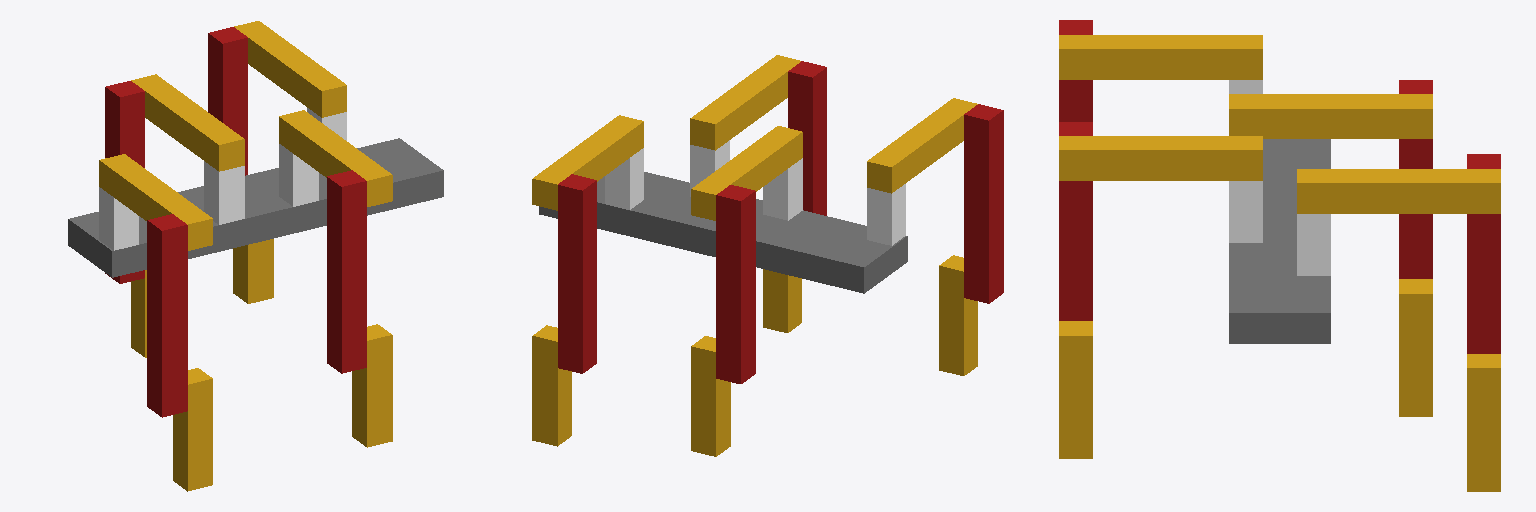
robot.urdf — v0:
<?xml version="1.0" encoding="utf-8"?>
<!-- =================================================================================== -->
<!-- |    This document was autogenerated by xacro from ../robots/v0variants/xacros/v0_4l_8.xacro | -->
<!-- |    EDITING THIS FILE BY HAND IS NOT RECOMMENDED                                 | -->
<!-- =================================================================================== -->
<robot name="v0">
  <material name="grey">
    <color rgba="0.5 0.5 0.5 1"/>
  </material>
  <material name="white">
    <color rgba="1 1 1 1"/>
  </material>
  <material name="yellow">
    <color rgba="0.91 0.7 0.14 1"/>
  </material>
  <material name="red">
    <color rgba="0.71 0.14 0.14 1"/>
  </material>
  <link name="body">
    <visual>
      <geometry>
        <box size="1.3 0.3 0.1"/>
      </geometry>
      <material name="grey"/>
      <origin rpy="0 0 0" xyz="0 0 0.7"/>
    </visual>
    <collision>
      <geometry>
        <box size="1.3 0.3 0.1"/>
      </geometry>
      <origin rpy="0 0 0" xyz="0 0 0.7"/>
    </collision>
    <inertial>
      <mass value="99.84"/>
      <inertia ixx="0.832" ixy="0.0" ixz="0.0" iyy="14.144" iyz="0.0" izz="14.8096"/>
    </inertial>
  </link>
  <link name="l1_segment_1">
    <visual>
      <geometry>
        <box size="0.1 0.1 0.2"/>
      </geometry>
      <material name="white"/>
      <origin rpy="0 0 0" xyz="0 0 0.1"/>
    </visual>
    <collision>
      <geometry>
        <box size="0.1 0.1 0.2"/>
      </geometry>
      <origin rpy="0 0 0" xyz="0 0 0.1"/>
    </collision>
    <inertial>
      <mass value="5.12"/>
      <inertia ixx="0.0213333333333" ixy="0.0" ixz="0.0" iyy="0.0213333333333" iyz="0.0" izz="0.00853333333333"/>
    </inertial>
  </link>
  <joint name="l1_base_to_joint_1" type="fixed">
    <parent link="body"/>
    <child link="l1_segment_1"/>
    <origin rpy="0 0 0" xyz="-0.18138383729886587 -0.1 0.75"/>
  </joint>
  <link name="l1_segment_2_HIP">
    <visual>
      <geometry>
        <box size="0.1 0.6 0.1"/>
      </geometry>
      <material name="yellow"/>
      <origin rpy="0 0 0" xyz="0 0.25 0"/>
    </visual>
    <collision>
      <geometry>
        <box size="0.1 0.6 0.1"/>
      </geometry>
      <origin rpy="0 0 0" xyz="0 0.25 0"/>
    </collision>
    <inertial>
      <mass value="15.36"/>
      <inertia ixx="0.4736" ixy="0.0" ixz="0.0" iyy="0.0256" iyz="0.0" izz="0.4736"/>
    </inertial>
  </link>
  <joint name="l1_joint_1_to_2" type="revolute">
    <parent link="l1_segment_1"/>
    <child link="l1_segment_2_HIP"/>
    <origin rpy="0 0 0" xyz="0 0 0.25"/>
    <axis xyz="0.0 0.0 1.0"/>
    <limit effort="2048" lower="-1.2" upper="1.2" velocity="20"/>
  </joint>
  <link name="l1_segment_3_THIGH">
    <visual>
      <geometry>
        <box size="0.1 0.1 0.7"/>
      </geometry>
      <material name="red"/>
      <origin rpy="0 0 0" xyz="0 0 -0.3"/>
    </visual>
    <collision>
      <geometry>
        <box size="0.1 0.1 0.7"/>
      </geometry>
      <origin rpy="0 0 0" xyz="0 0 -0.3"/>
    </collision>
    <inertial>
      <mass value="17.92"/>
      <inertia ixx="0.746666666667" ixy="0.0" ixz="0.0" iyy="0.746666666667" iyz="0.0" izz="0.0298666666667"/>
    </inertial>
  </link>
  <joint name="l1_joint_2_to_3" type="revolute">
    <parent link="l1_segment_2_HIP"/>
    <child link="l1_segment_3_THIGH"/>
    <origin rpy="0 0 0" xyz="-0.1 0.5 0"/>
    <axis xyz="1.0 0.0 0.0"/>
    <limit effort="2048" lower="-0.2" upper="0.75" velocity="20"/>
  </joint>
  <link name="l1_segment_4_FOOT">
    <visual>
      <geometry>
        <box size="0.1 0.1 0.4"/>
      </geometry>
      <material name="yellow"/>
      <origin rpy="0 0 0" xyz="0 0 -0.2"/>
    </visual>
    <collision>
      <geometry>
        <box size="0.1 0.1 0.4"/>
      </geometry>
      <origin rpy="0 0 0" xyz="0 0 -0.2"/>
    </collision>
    <inertial>
      <mass value="10.24"/>
      <inertia ixx="0.145066666667" ixy="0.0" ixz="0.0" iyy="0.145066666667" iyz="0.0" izz="0.0170666666667"/>
    </inertial>
  </link>
  <joint name="l1_joint_3_to_4_FOOT" type="revolute">
    <parent link="l1_segment_3_THIGH"/>
    <child link="l1_segment_4_FOOT"/>
    <origin rpy="0 0 0" xyz="0.1 0 -0.55"/>
    <axis xyz="1.0 0.0 0.0"/>
    <limit effort="2048" lower="-0.2" upper="0.5" velocity="20"/>
  </joint>
  <link name="r2_segment_1">
    <visual>
      <geometry>
        <box size="0.1 0.1 0.2"/>
      </geometry>
      <material name="white"/>
      <origin rpy="0 0 0" xyz="0 0 0.1"/>
    </visual>
    <collision>
      <geometry>
        <box size="0.1 0.1 0.2"/>
      </geometry>
      <origin rpy="0 0 0" xyz="0 0 0.1"/>
    </collision>
    <inertial>
      <mass value="5.12"/>
      <inertia ixx="0.0213333333333" ixy="0.0" ixz="0.0" iyy="0.0213333333333" iyz="0.0" izz="0.00853333333333"/>
    </inertial>
  </link>
  <joint name="r2_base_to_joint_1" type="fixed">
    <parent link="body"/>
    <child link="r2_segment_1"/>
    <origin rpy="0 0 0" xyz="-0.5939386239740044 -0.1 0.75"/>
  </joint>
  <link name="r2_segment_2_HIP">
    <visual>
      <geometry>
        <box size="0.1 0.6 0.1"/>
      </geometry>
      <material name="yellow"/>
      <origin rpy="0 0 0" xyz="0 -0.25 0"/>
    </visual>
    <collision>
      <geometry>
        <box size="0.1 0.6 0.1"/>
      </geometry>
      <origin rpy="0 0 0" xyz="0 -0.25 0"/>
    </collision>
    <inertial>
      <mass value="15.36"/>
      <inertia ixx="0.4736" ixy="0.0" ixz="0.0" iyy="0.0256" iyz="0.0" izz="0.4736"/>
    </inertial>
  </link>
  <joint name="r2_joint_1_to_2" type="revolute">
    <parent link="r2_segment_1"/>
    <child link="r2_segment_2_HIP"/>
    <origin rpy="0 0 0" xyz="0 0 0.25"/>
    <axis xyz="0.0 0.0 1.0"/>
    <limit effort="2048" lower="-1.2" upper="1.2" velocity="20"/>
  </joint>
  <link name="r2_segment_3_THIGH">
    <visual>
      <geometry>
        <box size="0.1 0.1 0.7"/>
      </geometry>
      <material name="red"/>
      <origin rpy="0 0 0" xyz="0 0 -0.3"/>
    </visual>
    <collision>
      <geometry>
        <box size="0.1 0.1 0.7"/>
      </geometry>
      <origin rpy="0 0 0" xyz="0 0 -0.3"/>
    </collision>
    <inertial>
      <mass value="17.92"/>
      <inertia ixx="0.746666666667" ixy="0.0" ixz="0.0" iyy="0.746666666667" iyz="0.0" izz="0.0298666666667"/>
    </inertial>
  </link>
  <joint name="r2_joint_2_to_3" type="revolute">
    <parent link="r2_segment_2_HIP"/>
    <child link="r2_segment_3_THIGH"/>
    <origin rpy="0 0 0" xyz="-0.1 -0.5 0"/>
    <axis xyz="1.0 0.0 0.0"/>
    <limit effort="2048" lower="-0.75" upper="0.2" velocity="20"/>
  </joint>
  <link name="r2_segment_4_FOOT">
    <visual>
      <geometry>
        <box size="0.1 0.1 0.4"/>
      </geometry>
      <material name="yellow"/>
      <origin rpy="0 0 0" xyz="0 0 -0.2"/>
    </visual>
    <collision>
      <geometry>
        <box size="0.1 0.1 0.4"/>
      </geometry>
      <origin rpy="0 0 0" xyz="0 0 -0.2"/>
    </collision>
    <inertial>
      <mass value="10.24"/>
      <inertia ixx="0.145066666667" ixy="0.0" ixz="0.0" iyy="0.145066666667" iyz="0.0" izz="0.0170666666667"/>
    </inertial>
  </link>
  <joint name="r2_joint_3_to_4_FOOT" type="revolute">
    <parent link="r2_segment_3_THIGH"/>
    <child link="r2_segment_4_FOOT"/>
    <origin rpy="0 0 0" xyz="0.1 0 -0.55"/>
    <axis xyz="1.0 0.0 0.0"/>
    <limit effort="2048" lower="-0.5" upper="0.2" velocity="20"/>
  </joint>
  <link name="l3_segment_1">
    <visual>
      <geometry>
        <box size="0.1 0.1 0.2"/>
      </geometry>
      <material name="white"/>
      <origin rpy="0 0 0" xyz="0 0 0.1"/>
    </visual>
    <collision>
      <geometry>
        <box size="0.1 0.1 0.2"/>
      </geometry>
      <origin rpy="0 0 0" xyz="0 0 0.1"/>
    </collision>
    <inertial>
      <mass value="5.12"/>
      <inertia ixx="0.0213333333333" ixy="0.0" ixz="0.0" iyy="0.0213333333333" iyz="0.0" izz="0.00853333333333"/>
    </inertial>
  </link>
  <joint name="l3_base_to_joint_1" type="fixed">
    <parent link="body"/>
    <child link="l3_segment_1"/>
    <origin rpy="0 0 0" xyz="0.3369670639915281 0.1 0.75"/>
  </joint>
  <link name="l3_segment_2_HIP">
    <visual>
      <geometry>
        <box size="0.1 0.6 0.1"/>
      </geometry>
      <material name="yellow"/>
      <origin rpy="0 0 0" xyz="0 0.25 0"/>
    </visual>
    <collision>
      <geometry>
        <box size="0.1 0.6 0.1"/>
      </geometry>
      <origin rpy="0 0 0" xyz="0 0.25 0"/>
    </collision>
    <inertial>
      <mass value="15.36"/>
      <inertia ixx="0.4736" ixy="0.0" ixz="0.0" iyy="0.0256" iyz="0.0" izz="0.4736"/>
    </inertial>
  </link>
  <joint name="l3_joint_1_to_2" type="revolute">
    <parent link="l3_segment_1"/>
    <child link="l3_segment_2_HIP"/>
    <origin rpy="0 0 0" xyz="0 0 0.25"/>
    <axis xyz="0.0 0.0 1.0"/>
    <limit effort="2048" lower="-1.2" upper="1.2" velocity="20"/>
  </joint>
  <link name="l3_segment_3_THIGH">
    <visual>
      <geometry>
        <box size="0.1 0.1 0.7"/>
      </geometry>
      <material name="red"/>
      <origin rpy="0 0 0" xyz="0 0 -0.3"/>
    </visual>
    <collision>
      <geometry>
        <box size="0.1 0.1 0.7"/>
      </geometry>
      <origin rpy="0 0 0" xyz="0 0 -0.3"/>
    </collision>
    <inertial>
      <mass value="17.92"/>
      <inertia ixx="0.746666666667" ixy="0.0" ixz="0.0" iyy="0.746666666667" iyz="0.0" izz="0.0298666666667"/>
    </inertial>
  </link>
  <joint name="l3_joint_2_to_3" type="revolute">
    <parent link="l3_segment_2_HIP"/>
    <child link="l3_segment_3_THIGH"/>
    <origin rpy="0 0 0" xyz="-0.1 0.5 0"/>
    <axis xyz="1.0 0.0 0.0"/>
    <limit effort="2048" lower="-0.2" upper="0.75" velocity="20"/>
  </joint>
  <link name="l3_segment_4_FOOT">
    <visual>
      <geometry>
        <box size="0.1 0.1 0.4"/>
      </geometry>
      <material name="yellow"/>
      <origin rpy="0 0 0" xyz="0 0 -0.2"/>
    </visual>
    <collision>
      <geometry>
        <box size="0.1 0.1 0.4"/>
      </geometry>
      <origin rpy="0 0 0" xyz="0 0 -0.2"/>
    </collision>
    <inertial>
      <mass value="10.24"/>
      <inertia ixx="0.145066666667" ixy="0.0" ixz="0.0" iyy="0.145066666667" iyz="0.0" izz="0.0170666666667"/>
    </inertial>
  </link>
  <joint name="l3_joint_3_to_4_FOOT" type="revolute">
    <parent link="l3_segment_3_THIGH"/>
    <child link="l3_segment_4_FOOT"/>
    <origin rpy="0 0 0" xyz="0.1 0 -0.55"/>
    <axis xyz="1.0 0.0 0.0"/>
    <limit effort="2048" lower="-0.2" upper="0.5" velocity="20"/>
  </joint>
  <link name="r4_segment_1">
    <visual>
      <geometry>
        <box size="0.1 0.1 0.2"/>
      </geometry>
      <material name="white"/>
      <origin rpy="0 0 0" xyz="0 0 0.1"/>
    </visual>
    <collision>
      <geometry>
        <box size="0.1 0.1 0.2"/>
      </geometry>
      <origin rpy="0 0 0" xyz="0 0 0.1"/>
    </collision>
    <inertial>
      <mass value="5.12"/>
      <inertia ixx="0.0213333333333" ixy="0.0" ixz="0.0" iyy="0.0213333333333" iyz="0.0" izz="0.00853333333333"/>
    </inertial>
  </link>
  <joint name="r4_base_to_joint_1" type="fixed">
    <parent link="body"/>
    <child link="r4_segment_1"/>
    <origin rpy="0 0 0" xyz="0.11009717919563722 -0.1 0.75"/>
  </joint>
  <link name="r4_segment_2_HIP">
    <visual>
      <geometry>
        <box size="0.1 0.6 0.1"/>
      </geometry>
      <material name="yellow"/>
      <origin rpy="0 0 0" xyz="0 -0.25 0"/>
    </visual>
    <collision>
      <geometry>
        <box size="0.1 0.6 0.1"/>
      </geometry>
      <origin rpy="0 0 0" xyz="0 -0.25 0"/>
    </collision>
    <inertial>
      <mass value="15.36"/>
      <inertia ixx="0.4736" ixy="0.0" ixz="0.0" iyy="0.0256" iyz="0.0" izz="0.4736"/>
    </inertial>
  </link>
  <joint name="r4_joint_1_to_2" type="revolute">
    <parent link="r4_segment_1"/>
    <child link="r4_segment_2_HIP"/>
    <origin rpy="0 0 0" xyz="0 0 0.25"/>
    <axis xyz="0.0 0.0 1.0"/>
    <limit effort="2048" lower="-1.2" upper="1.2" velocity="20"/>
  </joint>
  <link name="r4_segment_3_THIGH">
    <visual>
      <geometry>
        <box size="0.1 0.1 0.7"/>
      </geometry>
      <material name="red"/>
      <origin rpy="0 0 0" xyz="0 0 -0.3"/>
    </visual>
    <collision>
      <geometry>
        <box size="0.1 0.1 0.7"/>
      </geometry>
      <origin rpy="0 0 0" xyz="0 0 -0.3"/>
    </collision>
    <inertial>
      <mass value="17.92"/>
      <inertia ixx="0.746666666667" ixy="0.0" ixz="0.0" iyy="0.746666666667" iyz="0.0" izz="0.0298666666667"/>
    </inertial>
  </link>
  <joint name="r4_joint_2_to_3" type="revolute">
    <parent link="r4_segment_2_HIP"/>
    <child link="r4_segment_3_THIGH"/>
    <origin rpy="0 0 0" xyz="-0.1 -0.5 0"/>
    <axis xyz="1.0 0.0 0.0"/>
    <limit effort="2048" lower="-0.75" upper="0.2" velocity="20"/>
  </joint>
  <link name="r4_segment_4_FOOT">
    <visual>
      <geometry>
        <box size="0.1 0.1 0.4"/>
      </geometry>
      <material name="yellow"/>
      <origin rpy="0 0 0" xyz="0 0 -0.2"/>
    </visual>
    <collision>
      <geometry>
        <box size="0.1 0.1 0.4"/>
      </geometry>
      <origin rpy="0 0 0" xyz="0 0 -0.2"/>
    </collision>
    <inertial>
      <mass value="10.24"/>
      <inertia ixx="0.145066666667" ixy="0.0" ixz="0.0" iyy="0.145066666667" iyz="0.0" izz="0.0170666666667"/>
    </inertial>
  </link>
  <joint name="r4_joint_3_to_4_FOOT" type="revolute">
    <parent link="r4_segment_3_THIGH"/>
    <child link="r4_segment_4_FOOT"/>
    <origin rpy="0 0 0" xyz="0.1 0 -0.55"/>
    <axis xyz="1.0 0.0 0.0"/>
    <limit effort="2048" lower="-0.5" upper="0.2" velocity="20"/>
  </joint>
</robot>

--- Render facts (derived) ---
3 views of the same robot in one strip: view 1: azimuth 30°, elevation 25°; view 2: azimuth 150°, elevation 25°; view 3: azimuth 270°, elevation 25° (orthographic).
Model v0 with 17 links and 16 joints (12 revolute, 4 fixed), rooted at body, posed all joints at 0.
Visible links, largest first — view 1: body, r2_segment_3_THIGH, r4_segment_3_THIGH, l1_segment_2_HIP, l3_segment_2_HIP, r4_segment_2_HIP, r2_segment_2_HIP, r4_segment_4_FOOT, r2_segment_4_FOOT, l3_segment_3_THIGH, l1_segment_3_THIGH, l3_segment_4_FOOT (+4 smaller); view 2: body, l1_segment_3_THIGH, r2_segment_3_THIGH, l3_segment_3_THIGH, r4_segment_2_HIP, r2_segment_2_HIP, r4_segment_3_THIGH, l3_segment_2_HIP, l1_segment_2_HIP, l3_segment_4_FOOT, l1_segment_4_FOOT, r2_segment_4_FOOT (+5 smaller); view 3: body, r2_segment_2_HIP, l3_segment_2_HIP, r4_segment_2_HIP, l1_segment_2_HIP, l3_segment_3_THIGH, r4_segment_3_THIGH, l1_segment_4_FOOT, l3_segment_4_FOOT, r4_segment_4_FOOT, l1_segment_3_THIGH, l3_segment_1 (+2 smaller).
Boxes of the visible links, bbox=[...] form: body: bbox=[68, 138, 443, 277]; r2_segment_3_THIGH: bbox=[147, 214, 187, 417]; r4_segment_3_THIGH: bbox=[327, 170, 366, 373]; l1_segment_2_HIP: bbox=[131, 74, 244, 171]; l3_segment_2_HIP: bbox=[234, 21, 346, 117]; r4_segment_2_HIP: bbox=[279, 110, 392, 206]; r2_segment_2_HIP: bbox=[99, 154, 212, 250]; r4_segment_4_FOOT: bbox=[352, 324, 392, 447]; r2_segment_4_FOOT: bbox=[173, 368, 212, 491]; l3_segment_3_THIGH: bbox=[208, 27, 247, 175]; l1_segment_3_THIGH: bbox=[105, 81, 144, 283]; l3_segment_4_FOOT: bbox=[233, 239, 273, 303]; body: bbox=[539, 172, 907, 293]; l1_segment_3_THIGH: bbox=[716, 185, 755, 383]; r2_segment_3_THIGH: bbox=[964, 104, 1003, 303]; l3_segment_3_THIGH: bbox=[558, 174, 596, 373]; r4_segment_2_HIP: bbox=[690, 55, 800, 150]; r2_segment_2_HIP: bbox=[867, 98, 977, 193]; r4_segment_3_THIGH: bbox=[788, 61, 826, 215]; l3_segment_2_HIP: bbox=[532, 115, 643, 210]; l1_segment_2_HIP: bbox=[691, 126, 802, 220]; l3_segment_4_FOOT: bbox=[532, 325, 571, 446]; l1_segment_4_FOOT: bbox=[691, 336, 730, 456]; r2_segment_4_FOOT: bbox=[939, 255, 977, 375]; body: bbox=[1229, 139, 1330, 343]; r2_segment_2_HIP: bbox=[1059, 35, 1262, 79]; l3_segment_2_HIP: bbox=[1297, 169, 1500, 213]; r4_segment_2_HIP: bbox=[1059, 136, 1262, 180]; l1_segment_2_HIP: bbox=[1229, 94, 1432, 138]; l3_segment_3_THIGH: bbox=[1467, 154, 1500, 353]; r4_segment_3_THIGH: bbox=[1059, 122, 1092, 320]; l1_segment_4_FOOT: bbox=[1399, 279, 1432, 416]; l3_segment_4_FOOT: bbox=[1467, 354, 1500, 491]; r4_segment_4_FOOT: bbox=[1059, 321, 1092, 458]; l1_segment_3_THIGH: bbox=[1399, 80, 1432, 278]; l3_segment_1: bbox=[1297, 214, 1330, 275].
Size in the robot's own frame: 1.39 by 1.3 by 1 metres.
Geometry: primitives only (box / cylinder / sphere), no mesh files.